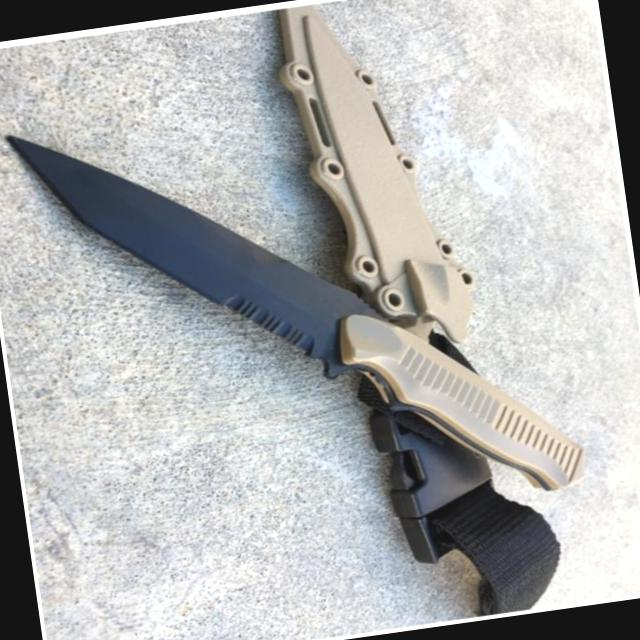knife: (0, 77, 416, 424)
